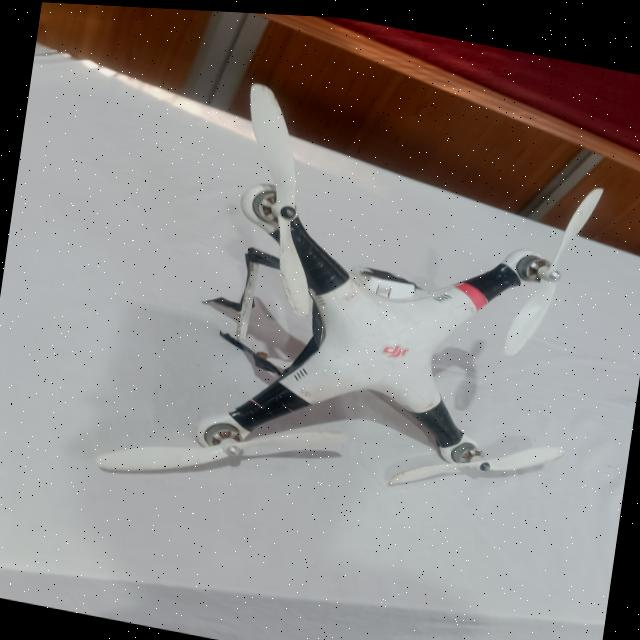drone: (166, 127, 578, 561)
